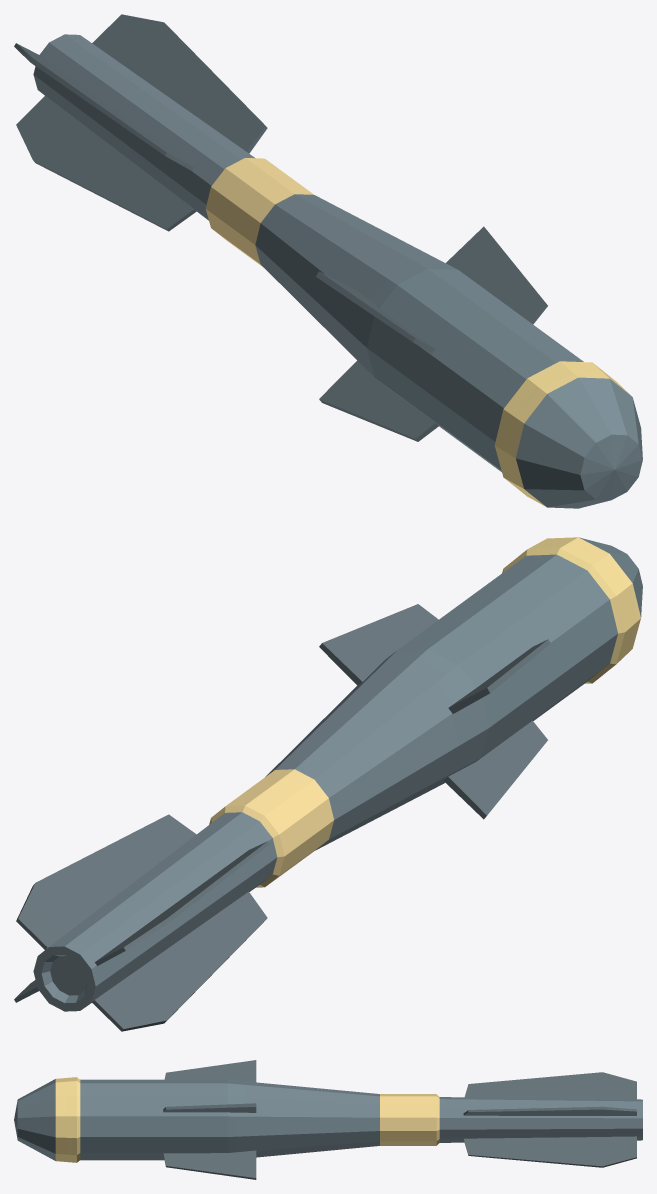
The model's file is SM_Missile_01.fbx.
3 views of the same model, one above another, from view 1: azimuth 30°, elevation 25°; view 2: azimuth 150°, elevation 25°; view 3: azimuth 270°, elevation 25° (orthographic). The views are drawn at different scales.
Parts seen in each view (by area): view 1: SM_Missile_01; view 2: SM_Missile_01; view 3: SM_Missile_01.
Boxes of the visible parts, box(x1,y1,x2,y2) form: SM_Missile_01: box(14, 14, 642, 508); SM_Missile_01: box(14, 537, 642, 1031); SM_Missile_01: box(14, 1060, 642, 1179).
Size of the model in its own units: 5.8 by 4.36 by 31.68.
1 material, 1 textured.
